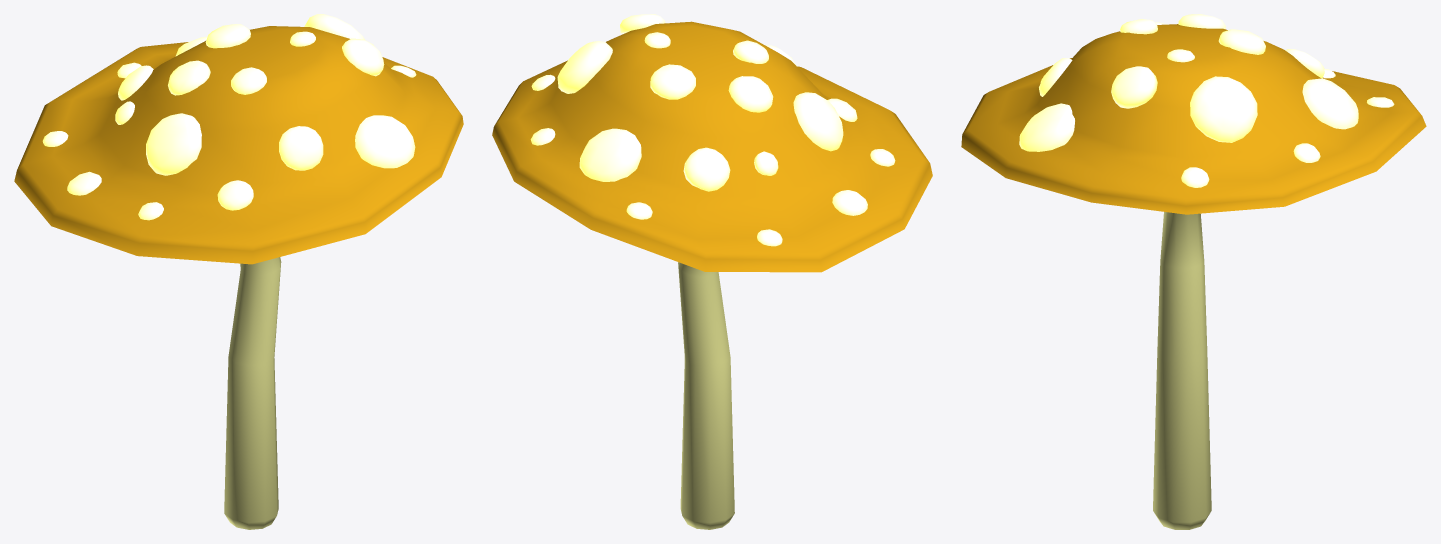
Rendered from YellowMushroom.fbx.
3 views of the same model, side by side, from view 1: azimuth 30°, elevation 25°; view 2: azimuth 150°, elevation 25°; view 3: azimuth 270°, elevation 25° (orthographic). The views are drawn at different scales.
Visible parts, largest first — view 1: YellowMushroom; view 2: YellowMushroom; view 3: YellowMushroom.
Part boxes in pixels (x1,y1,x2,y2): YellowMushroom: [14, 14, 463, 529]; YellowMushroom: [492, 14, 932, 529]; YellowMushroom: [961, 14, 1426, 529].
Size of the model in its own units: 78.27 by 91.52 by 77.85.
